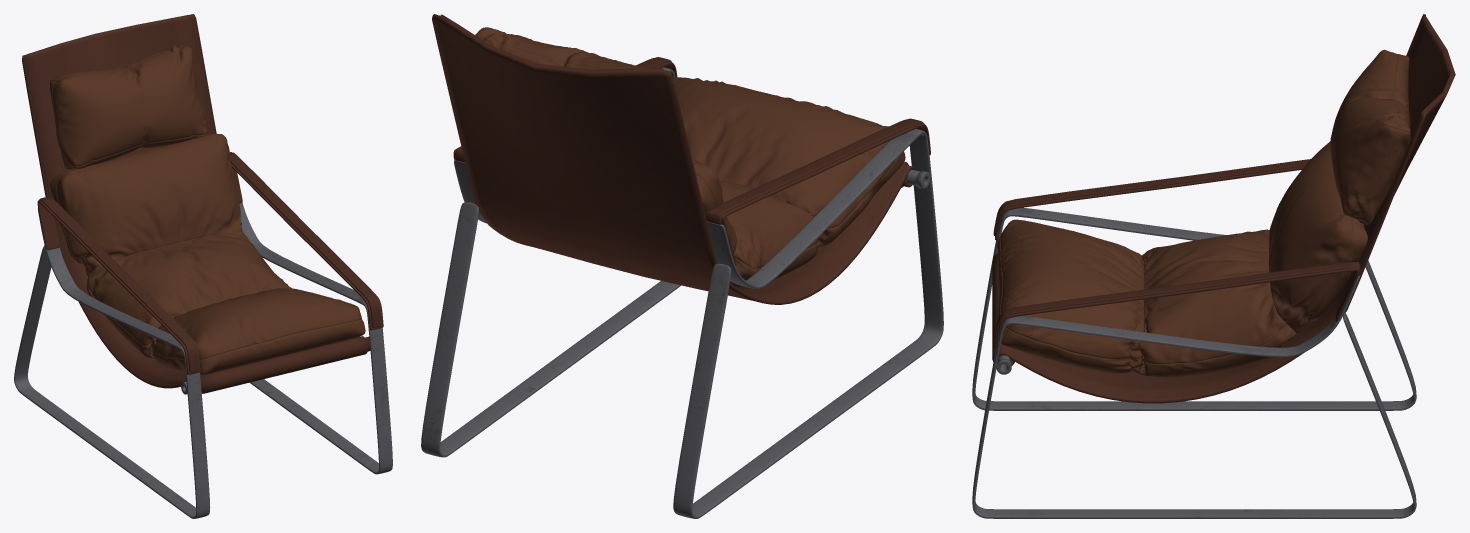
File: 15869625_SILLON_MILANO_2K.glb
The picture shows the model from 3 angles, left to right: view 1: azimuth 30°, elevation 25°; view 2: azimuth 150°, elevation 25°; view 3: azimuth 270°, elevation 25°; orthographic projection. The views are drawn at different scales.
Parts seen in each view (by area): view 1: Cube.002; view 2: Cube.002; view 3: Cube.002.
Part boxes in pixels (<box>): Cube.002: <box>14,14,392,518</box>; Cube.002: <box>421,14,943,518</box>; Cube.002: <box>972,14,1455,518</box>.
Size of the model in its own units: 0.5604 by 0.8977 by 0.9882.
1 material, 1 textured.
